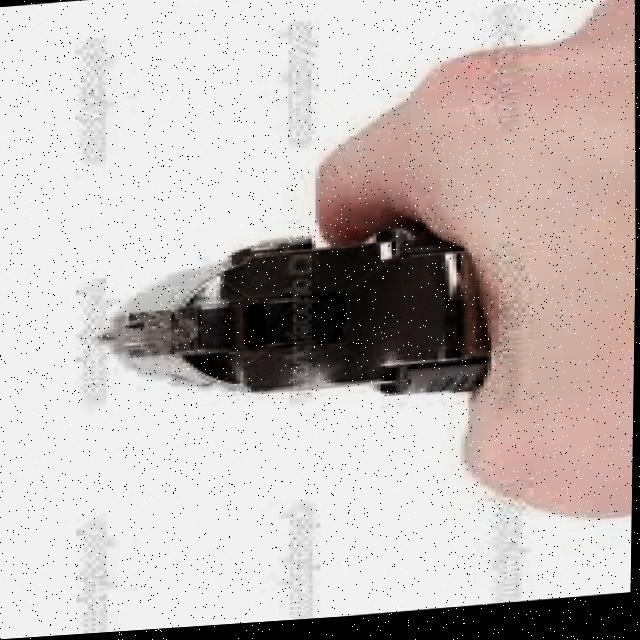pistol: (90, 221, 497, 424)
